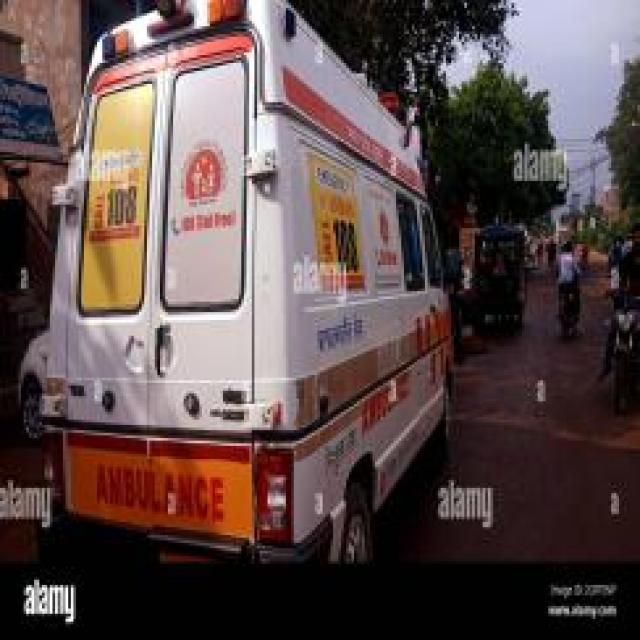Ambulance: (23, 0, 460, 572), (546, 236, 588, 341)
